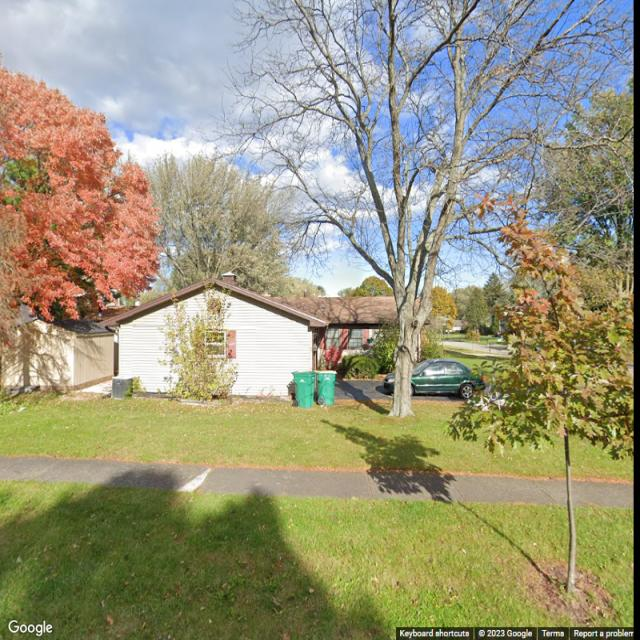House: (98, 272, 430, 398)
